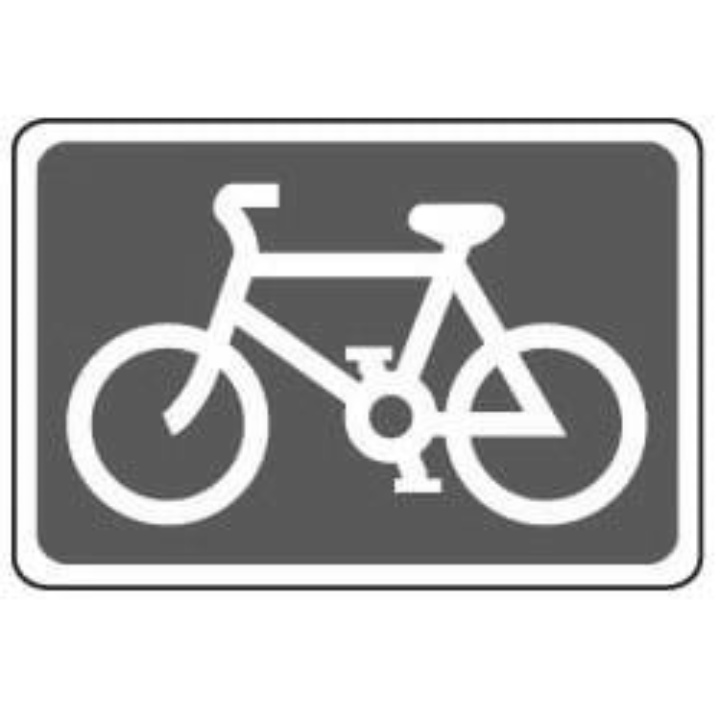bicycle: (78, 155, 656, 535)
